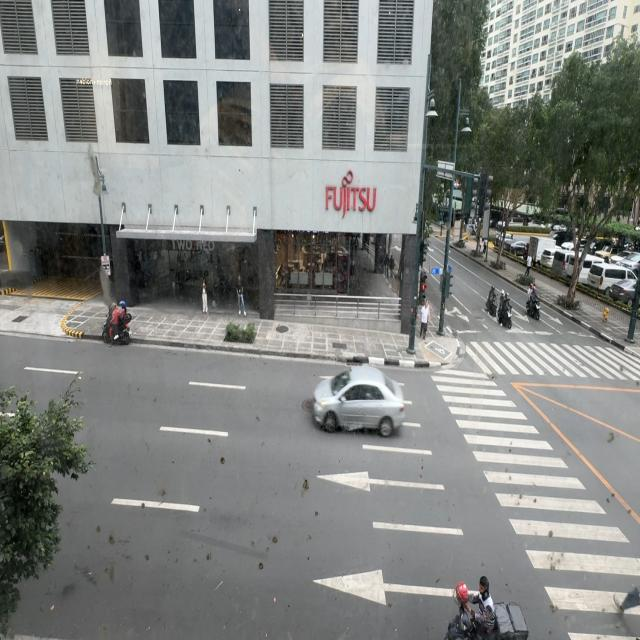waiting: (418, 298, 432, 350), (420, 297, 430, 338)
